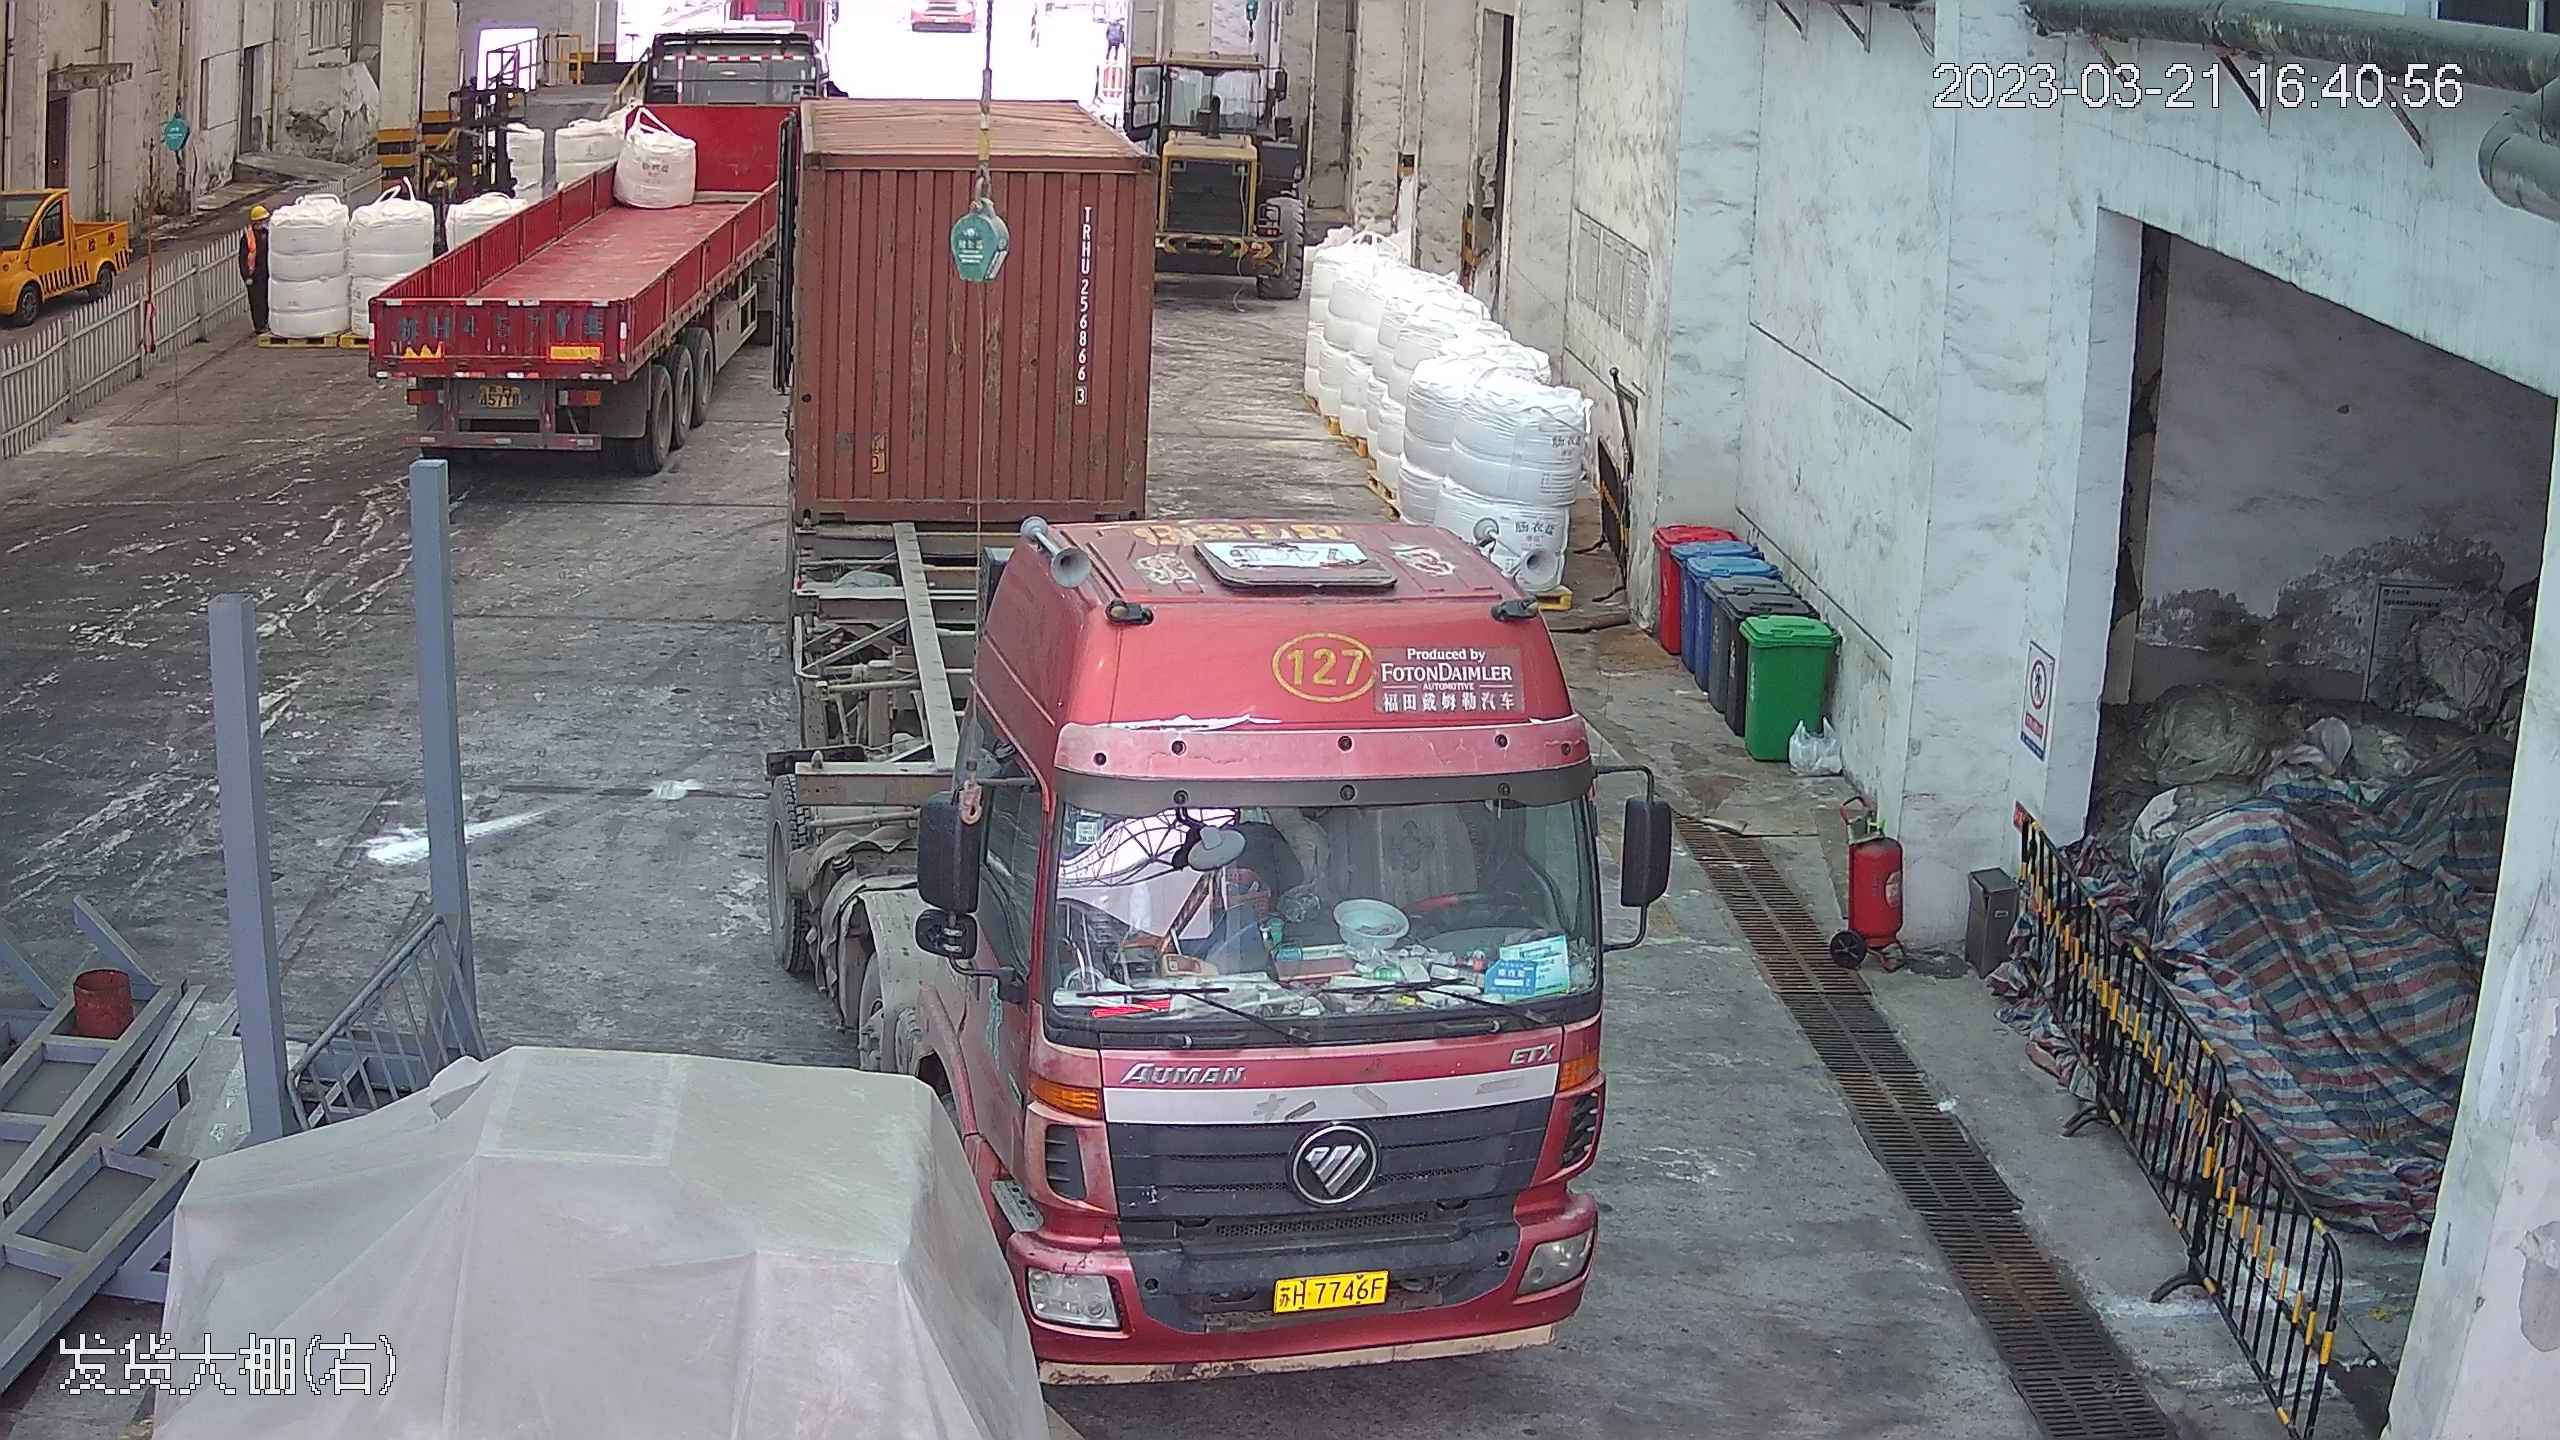head: (238, 202, 275, 251)
helmet: (246, 201, 269, 222)
people: (231, 198, 282, 342)
truck: (821, 7, 1636, 1410), (356, 8, 810, 478)
